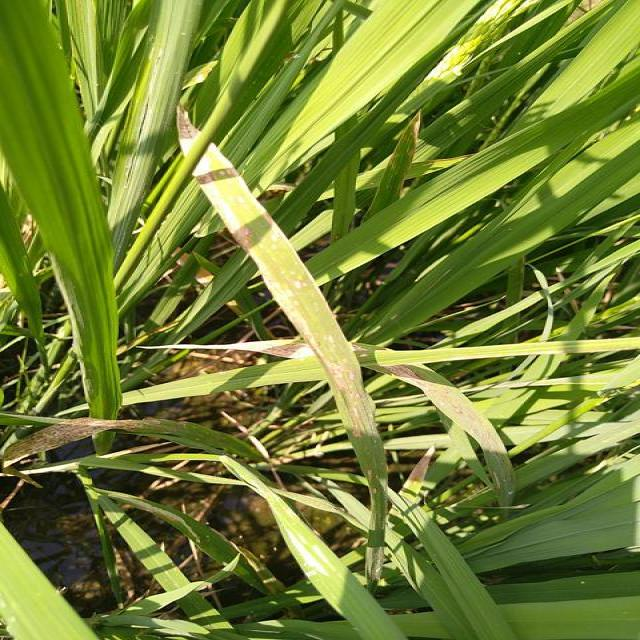Leaf Streak: (193, 143, 385, 496), (377, 364, 516, 508), (0, 419, 252, 466), (208, 339, 299, 358), (403, 446, 436, 494), (176, 108, 204, 155), (352, 343, 387, 352)
